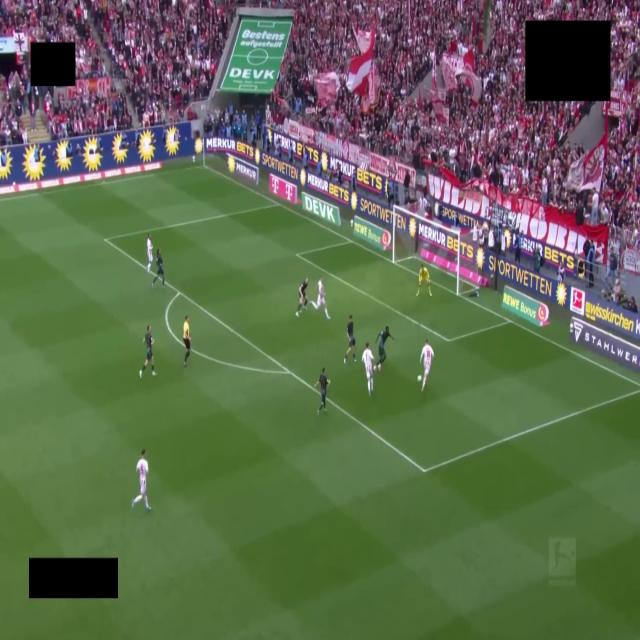ball: (418, 376, 421, 382)
player: (132, 449, 150, 511), (140, 326, 156, 377), (311, 278, 330, 319), (375, 327, 393, 370), (315, 368, 329, 415), (420, 341, 433, 391), (362, 343, 373, 395), (344, 315, 355, 364), (152, 248, 164, 287), (296, 278, 308, 316), (417, 266, 431, 295), (147, 233, 153, 274)
referee: (183, 315, 190, 367)
